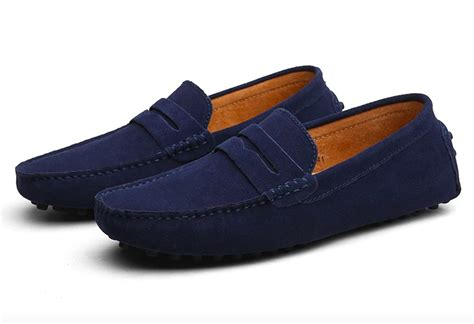gamuza: (14, 64, 460, 264)
